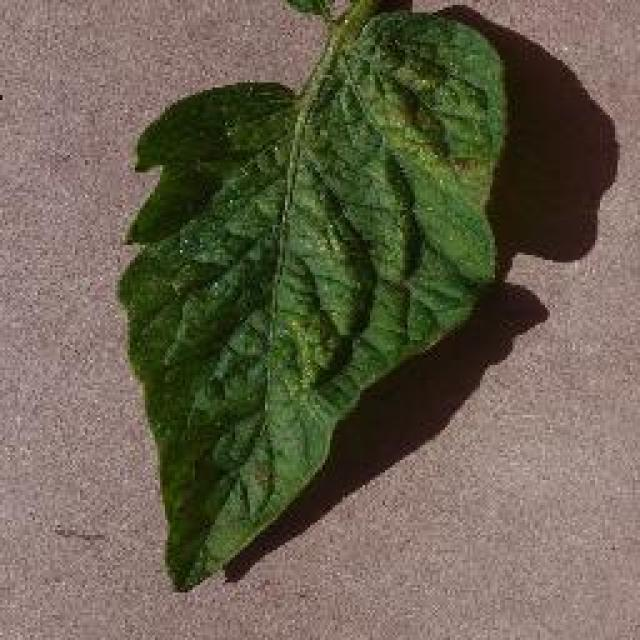Tomato___Spider_mites Two-spotted_spider_mite: (120, 0, 505, 588)
